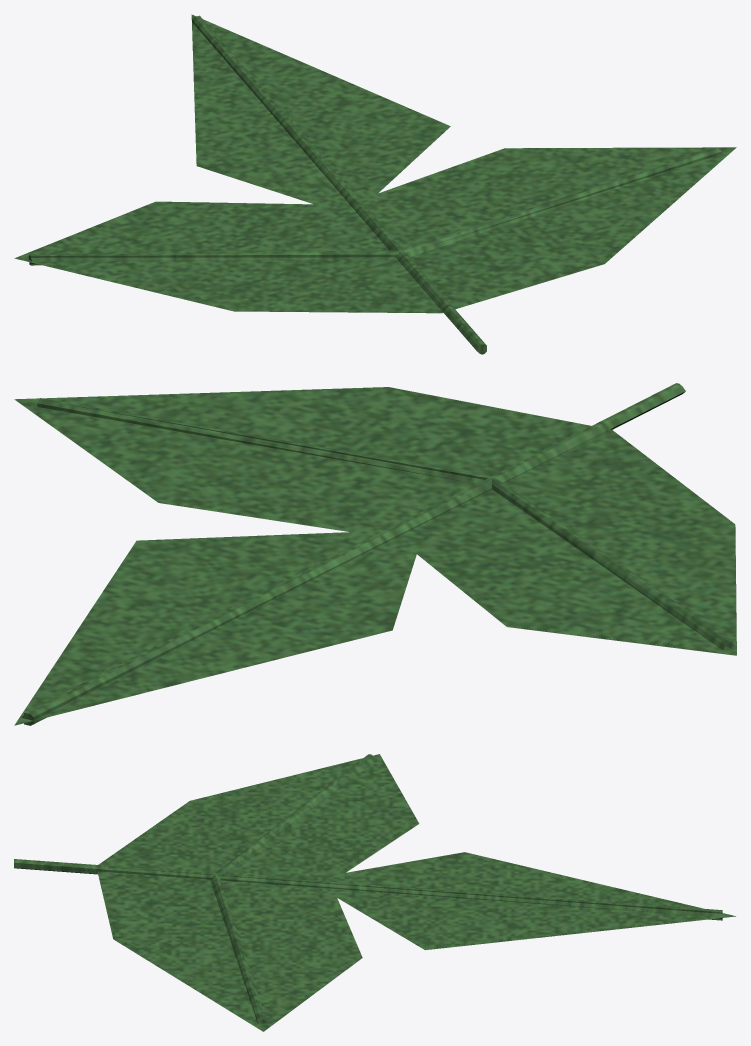
File: Leaf2.glb
The picture shows the model from 3 angles, top to bottom: view 1: azimuth 30°, elevation 25°; view 2: azimuth 150°, elevation 25°; view 3: azimuth 270°, elevation 25°; orthographic projection. The views are drawn at different scales.
Parts seen in each view (by area): view 1: Leaf2; view 2: Leaf2; view 3: Leaf2.
Boxes of the visible parts, left/top/right/bottom form: Leaf2: left=14, top=14, right=736, bottom=354; Leaf2: left=14, top=383, right=736, bottom=725; Leaf2: left=14, top=754, right=735, bottom=1031.
Bounding box in the file's own units: 290 × 4.03 × 319.
1 material, 1 textured.
